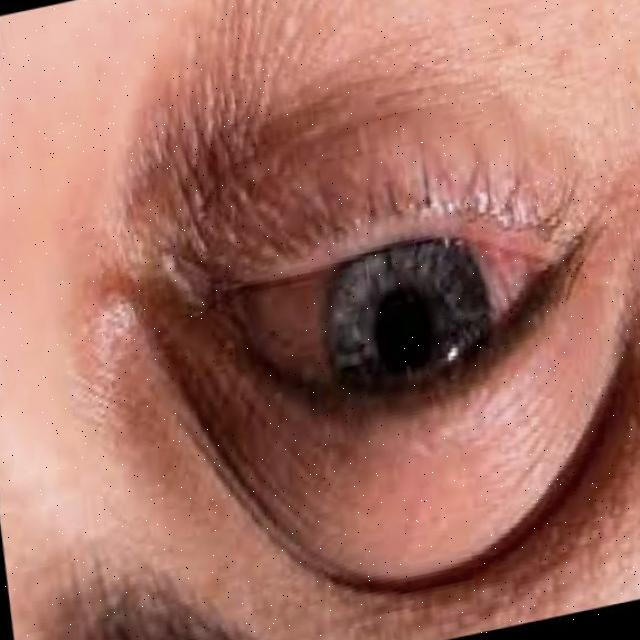puffy_eyes: (85, 0, 612, 275)
